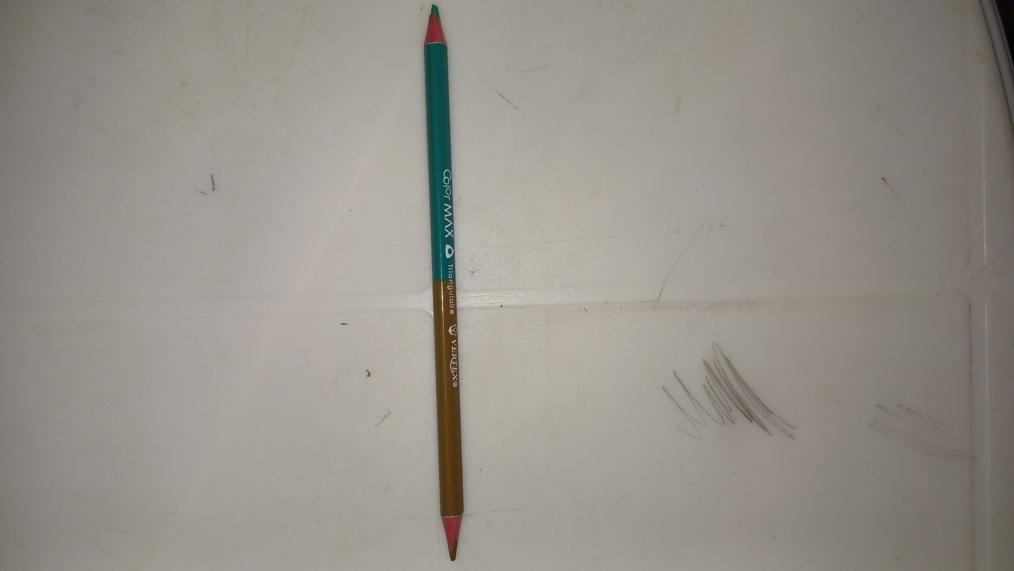Pencil: (426, 2, 462, 566)
